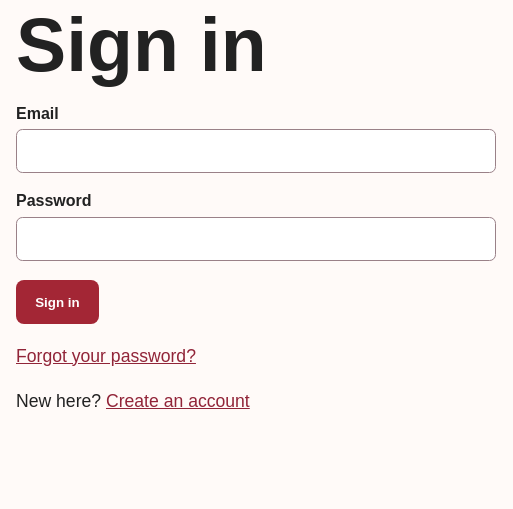
forms › shows the rate limit response on sign in and permits another attempt
Type "tester@example.test" into the field labelled "Email" at (256, 151), box [16, 129, 496, 173]
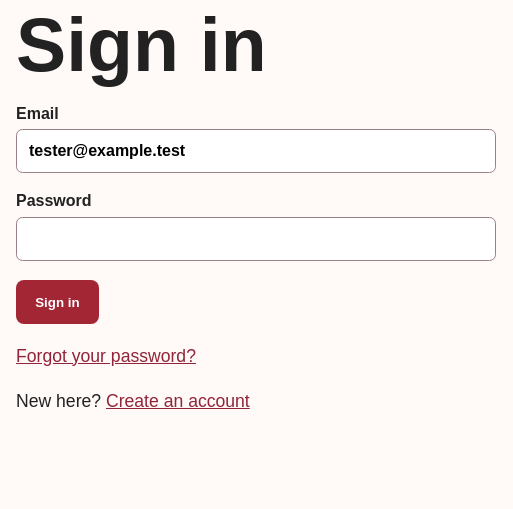
Type "example-password" into the password field labelled "Password" at (256, 239), box [16, 217, 496, 261]
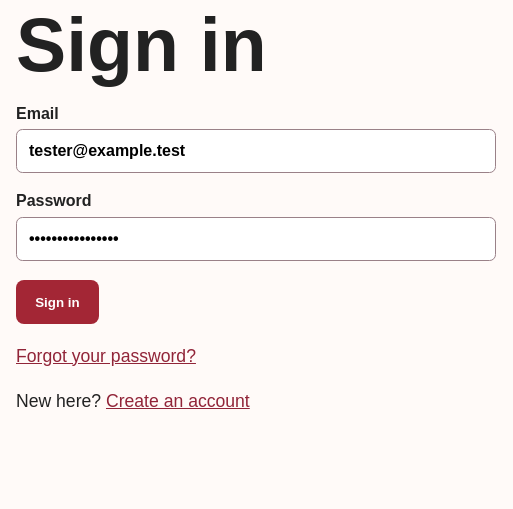
Click the button "Sign in" at (57, 302), box [16, 280, 99, 324]
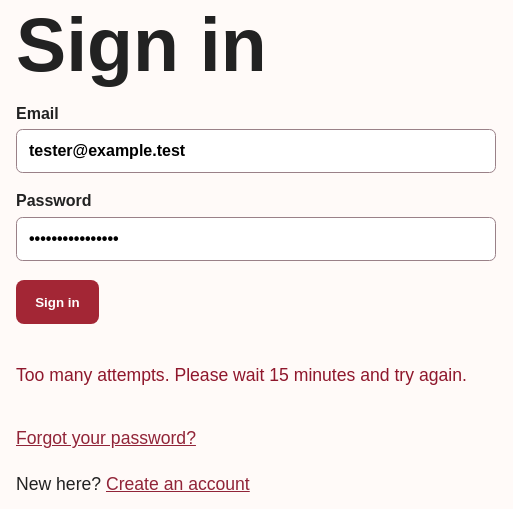
Check: the message reads "Too many attempts. Please wait 15 minutes and try again.", box [16, 365, 467, 385]
